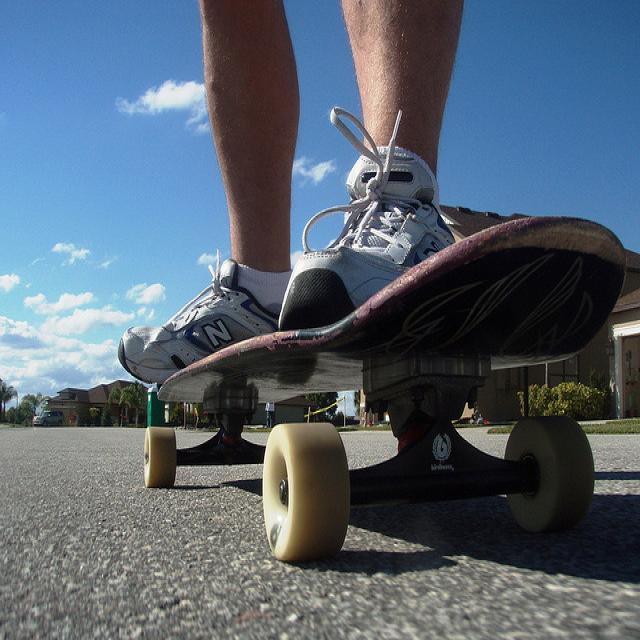Vehicle: (33, 411, 64, 426)
